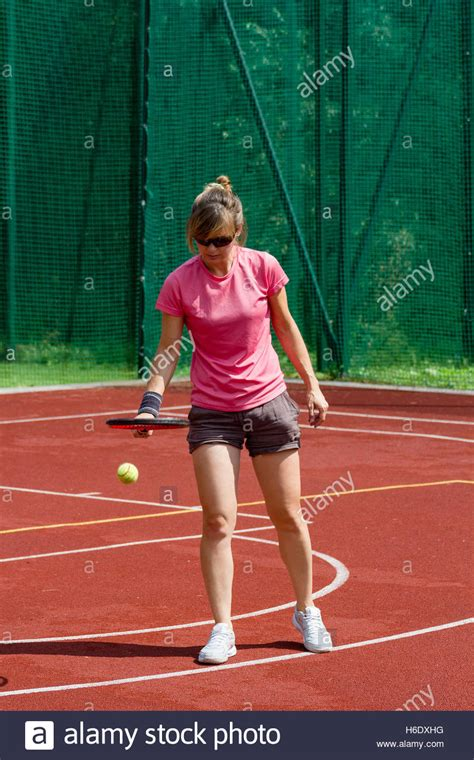tennis_ball: (117, 462, 139, 485)
